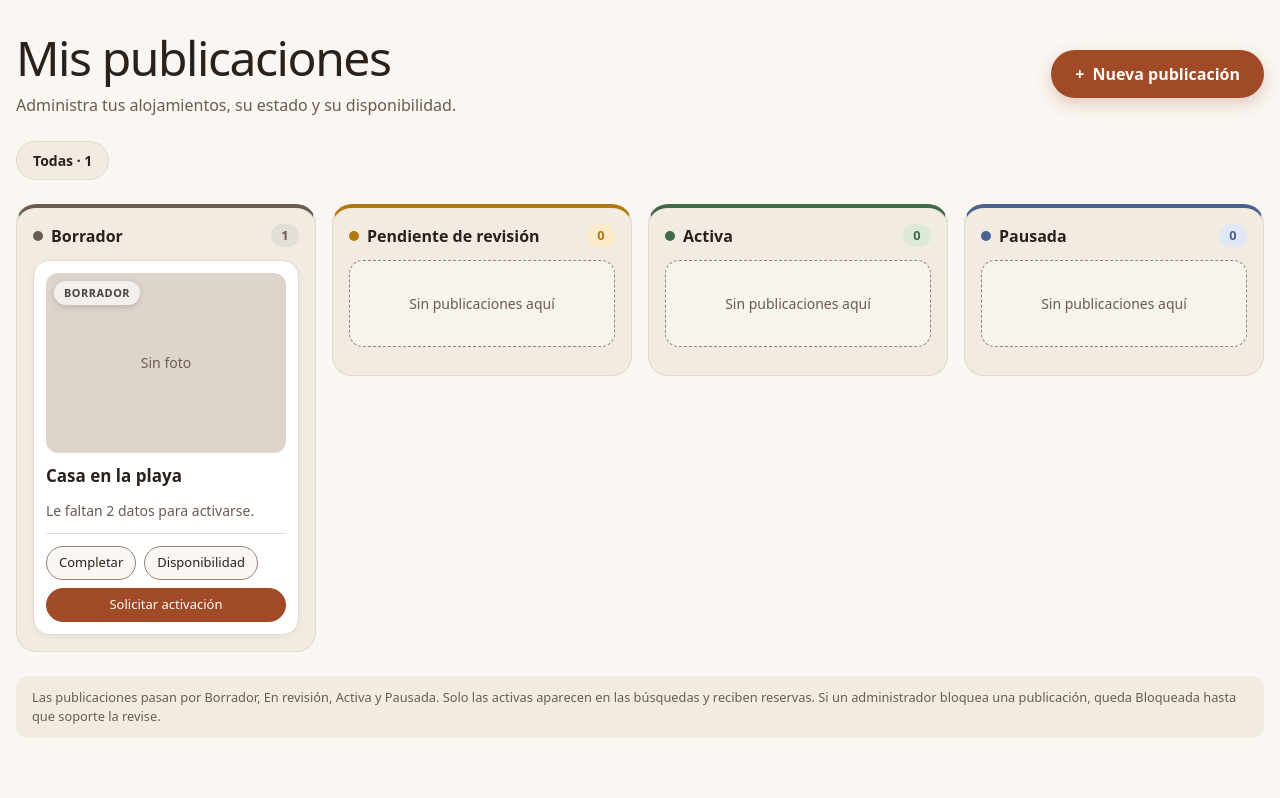
Test: MisPublicacionesPage › si faltan datos, explica qué completar y la publicación sigue en borrador
Click the button with aria-label "Solicitar activación Casa en la playa". click: coordinates (166, 605)
box: [46, 588, 286, 622]
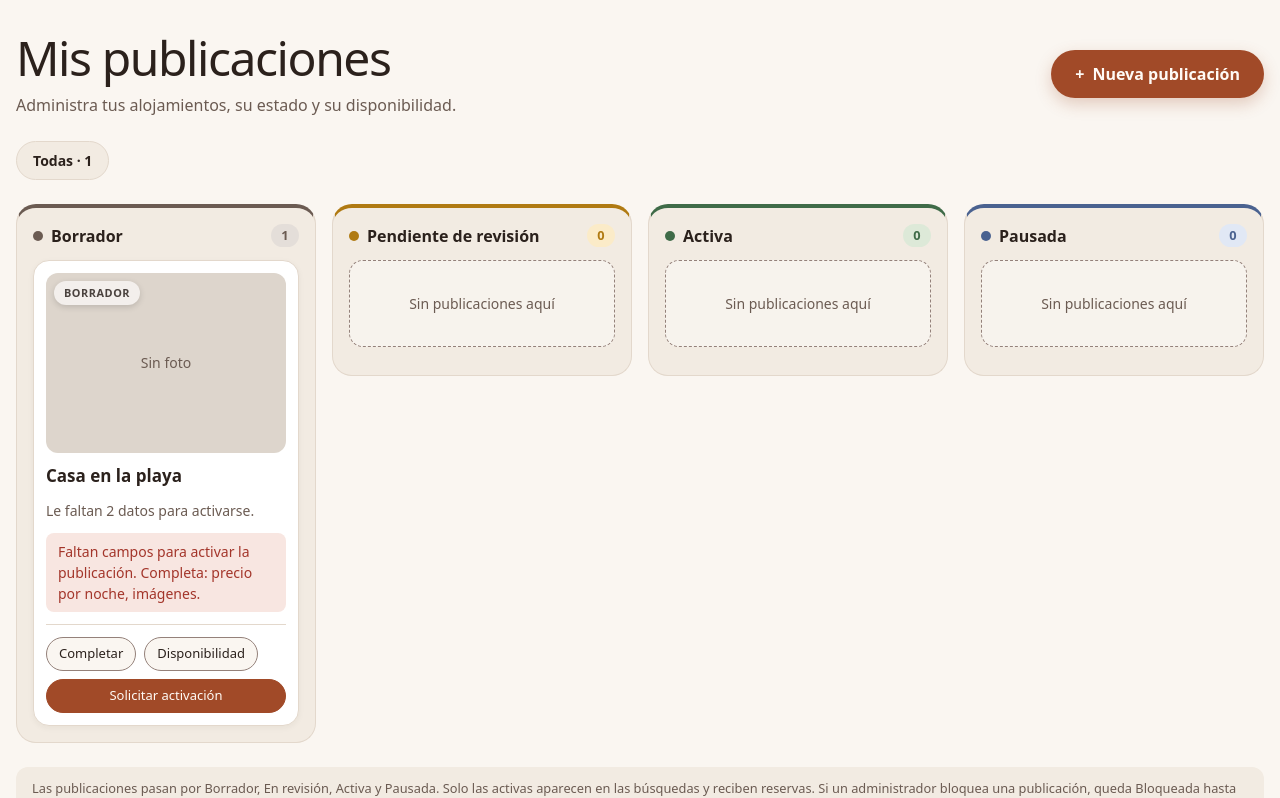
Expected: the heading "Casa en la playa" is shown, [46, 464, 182, 487]
Expected: the message reads "Faltan campos para activar la publicación. Completa: precio por noche, imágenes.", [58, 542, 252, 603]
